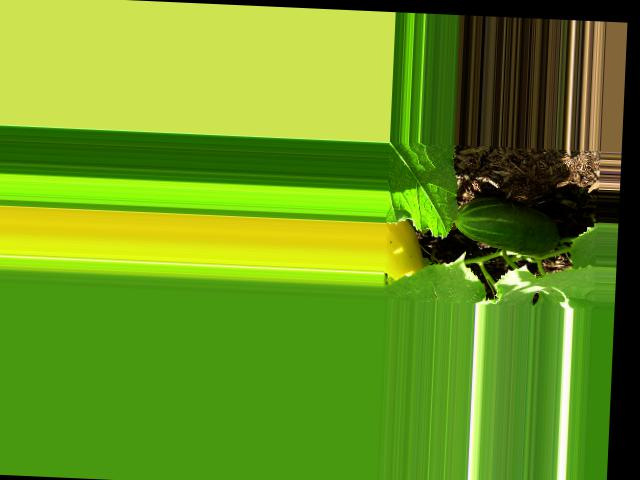cucumber: (453, 194, 562, 257)
